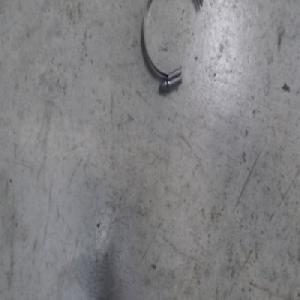AdjustableClamp: (141, 0, 202, 92)
